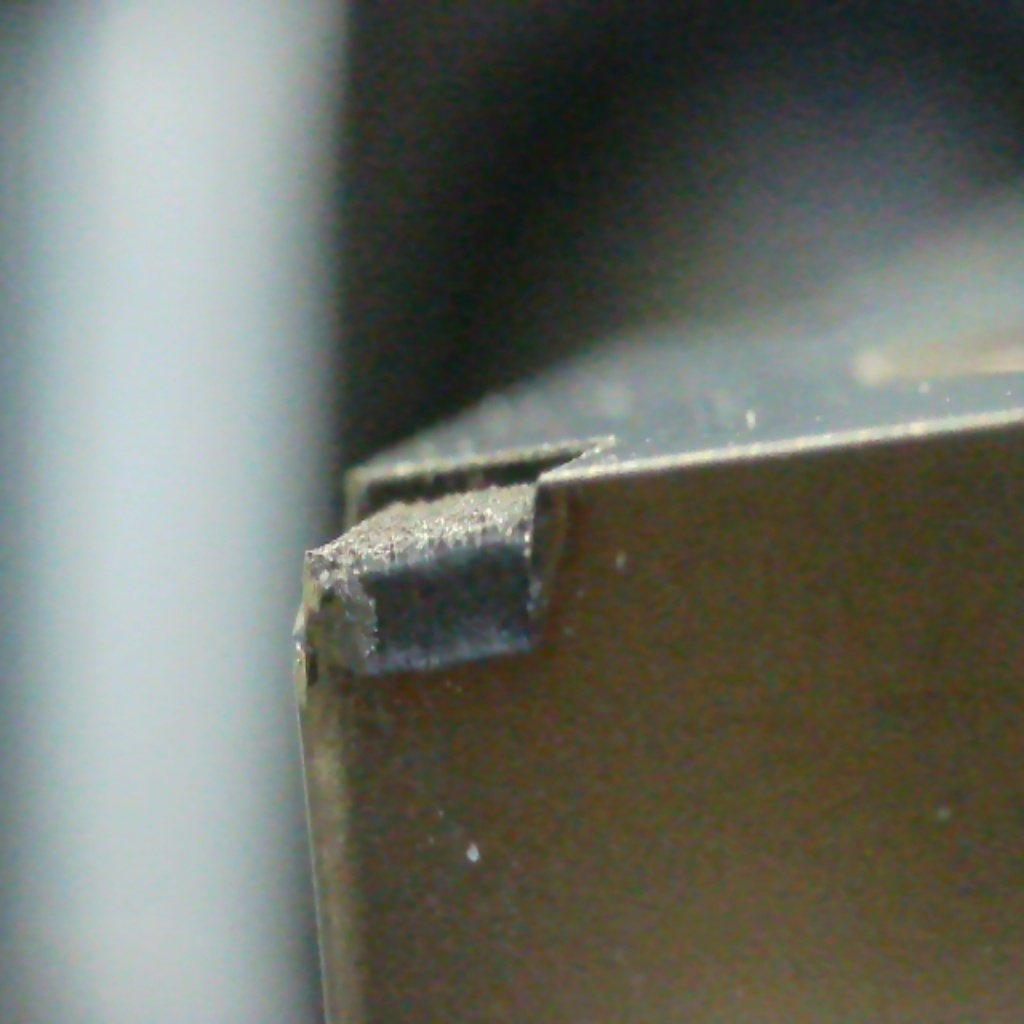flank_wear: (295, 569, 400, 702)
